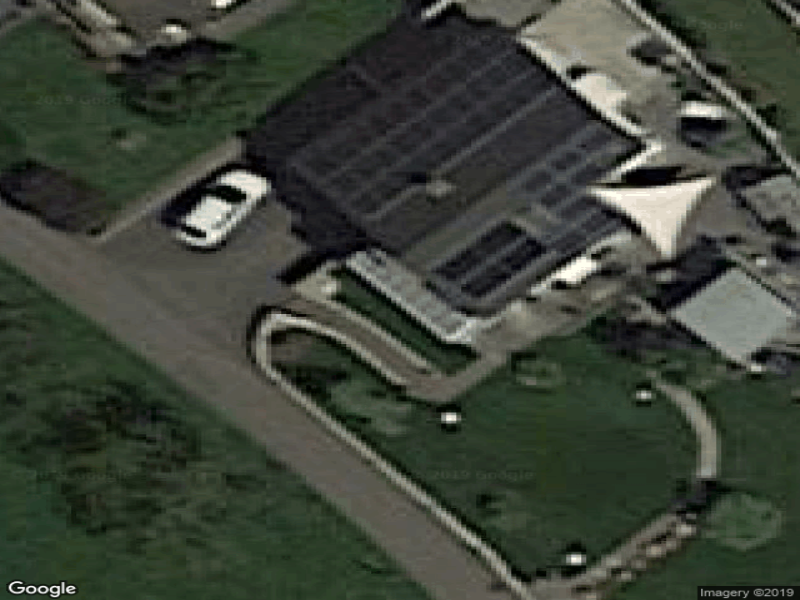pv: (304, 34, 557, 221), (522, 124, 641, 232), (439, 219, 546, 309)
